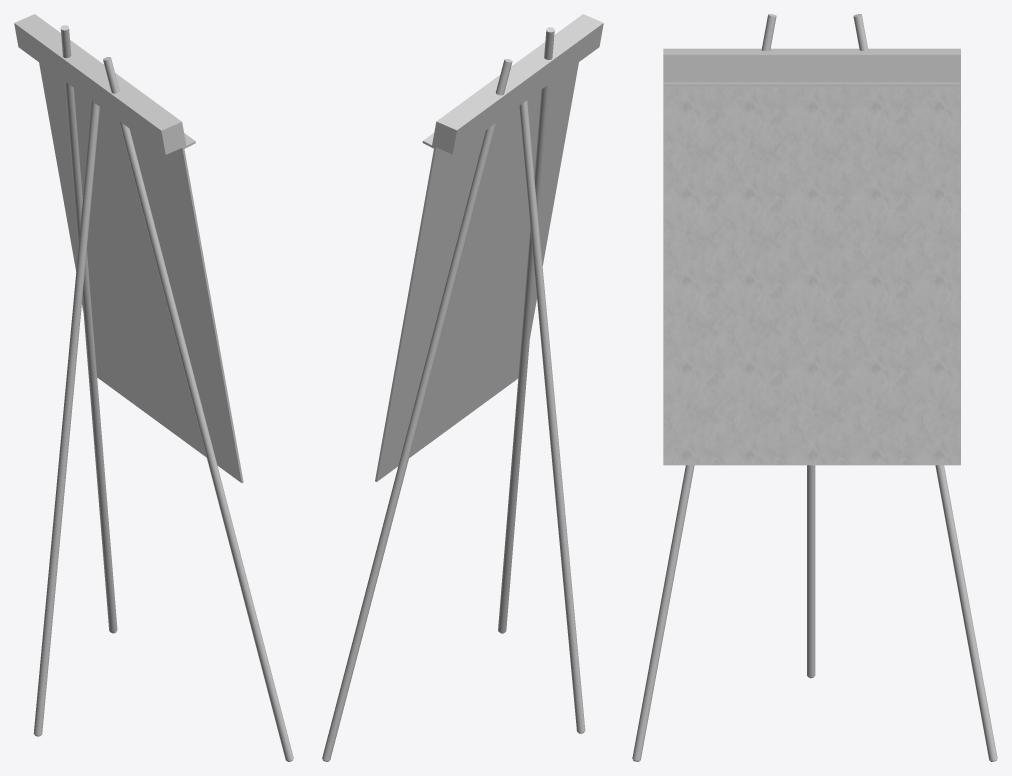
Rendered from flipchart.fbx.
3 views of the same model, side by side, from view 1: azimuth 30°, elevation 25°; view 2: azimuth 150°, elevation 25°; view 3: azimuth 270°, elevation 25° (orthographic).
Visible parts, largest first — view 1: gestell2; view 2: gestell2; view 3: gestell2.
Boxes of the visible parts, box(x1,y1,x2,y2) form: gestell2: box(14, 14, 293, 761); gestell2: box(322, 14, 603, 761); gestell2: box(632, 14, 997, 761).
Size of the model in its own units: 47.41 by 179 by 85.89.
